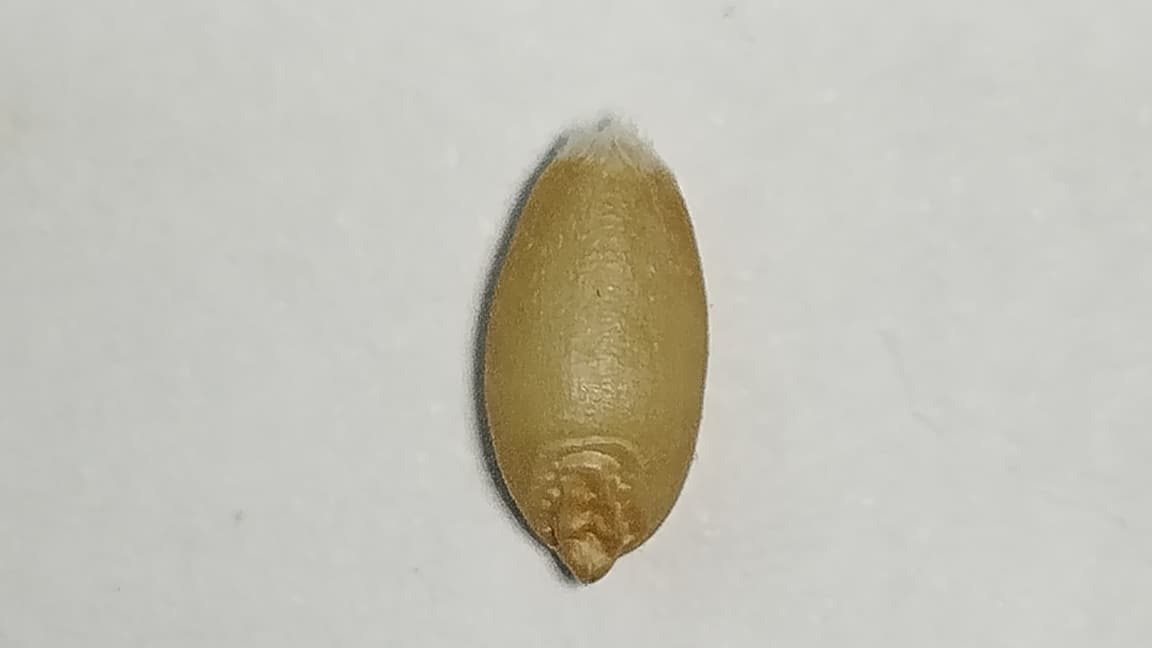healthy: (476, 151, 706, 581)
